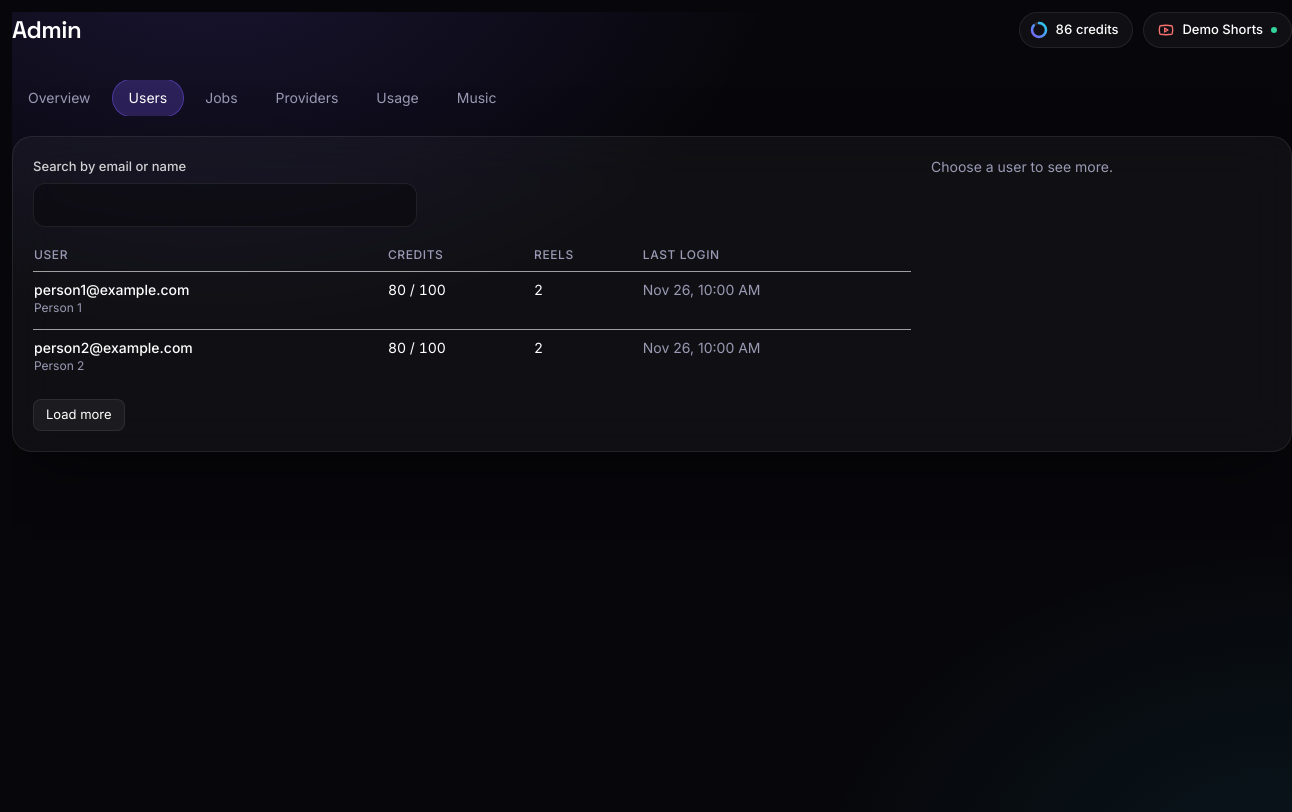
Test: admin: users › Load more asks for the next page with the cursor
Click the button "Load more".
click(79, 414)  # box left=33, top=398, right=125, bottom=430
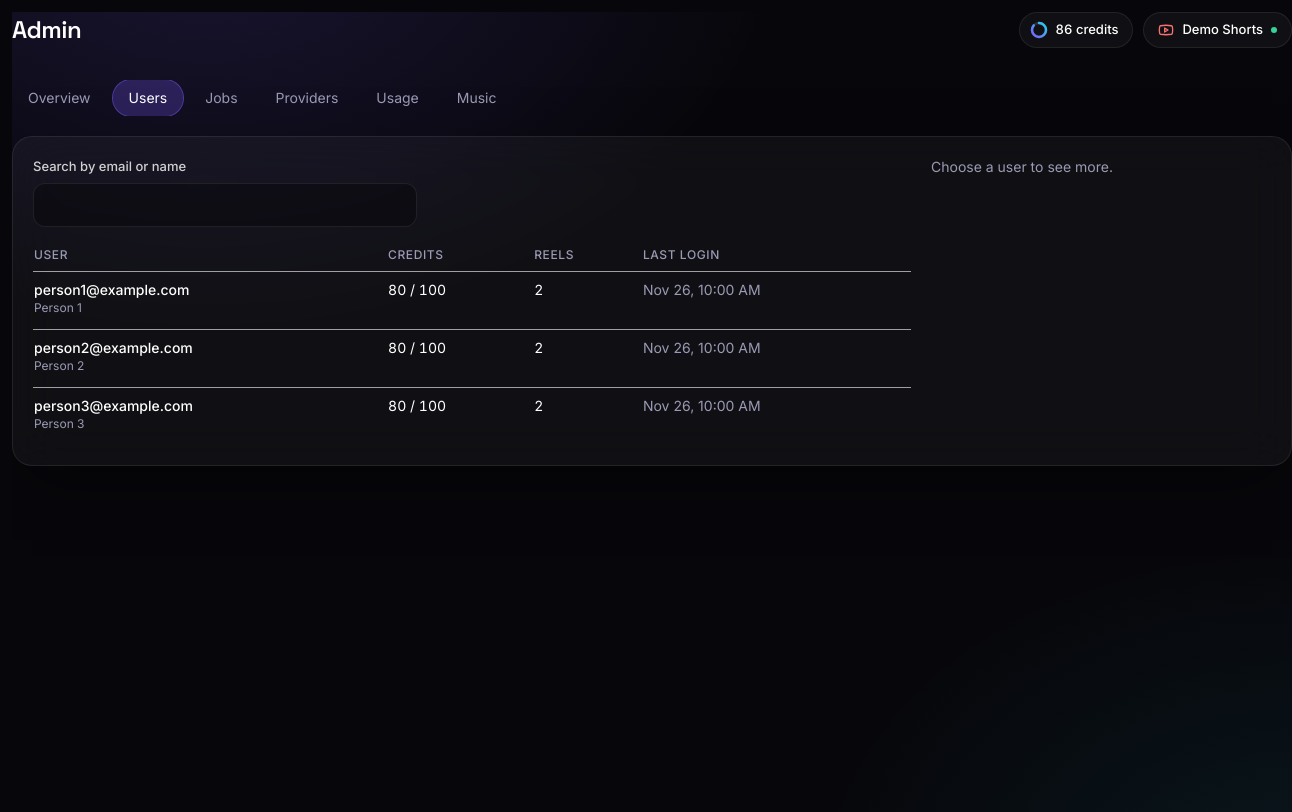
expect the text "person1@example.com" is shown: met, box left=34, top=280, right=189, bottom=298
expect the text "person3@example.com" is shown: met, box left=34, top=396, right=193, bottom=414
expect the button "Load more" is gone: met
